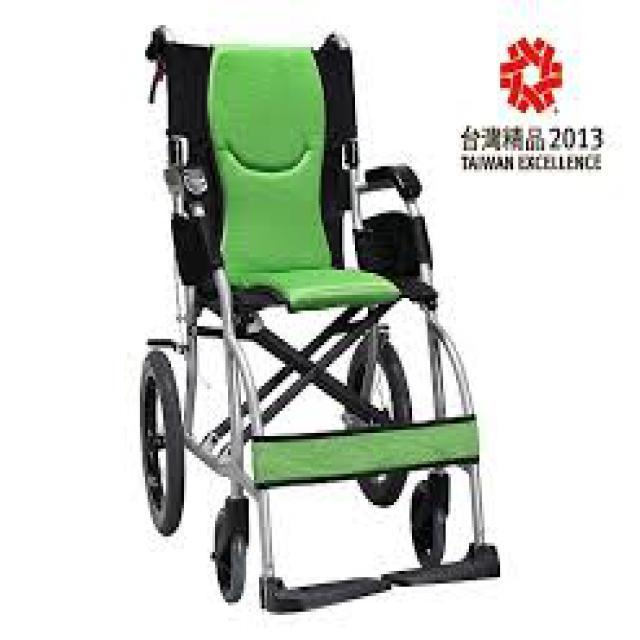wheelchair: (119, 19, 513, 618)
